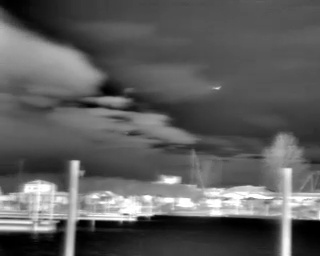BIRD: (210, 83, 224, 94)
